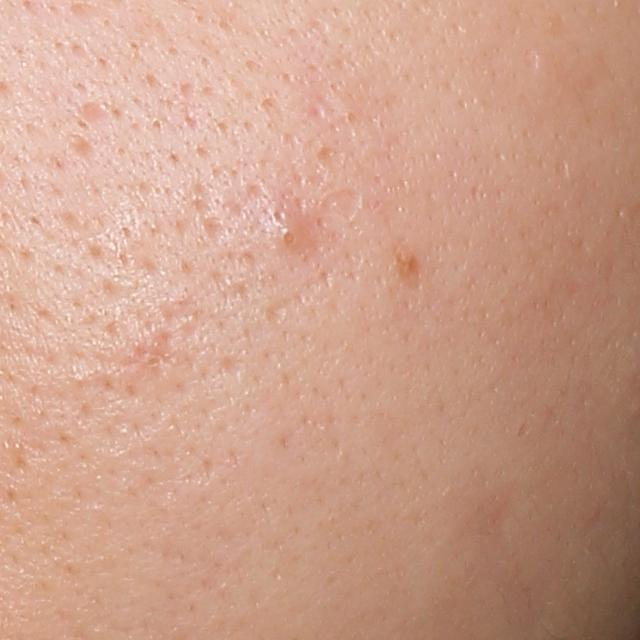atrophic_scar: (319, 188, 361, 222), (68, 133, 99, 162), (80, 99, 113, 125), (522, 46, 540, 72)
comedo: (270, 215, 316, 262)
